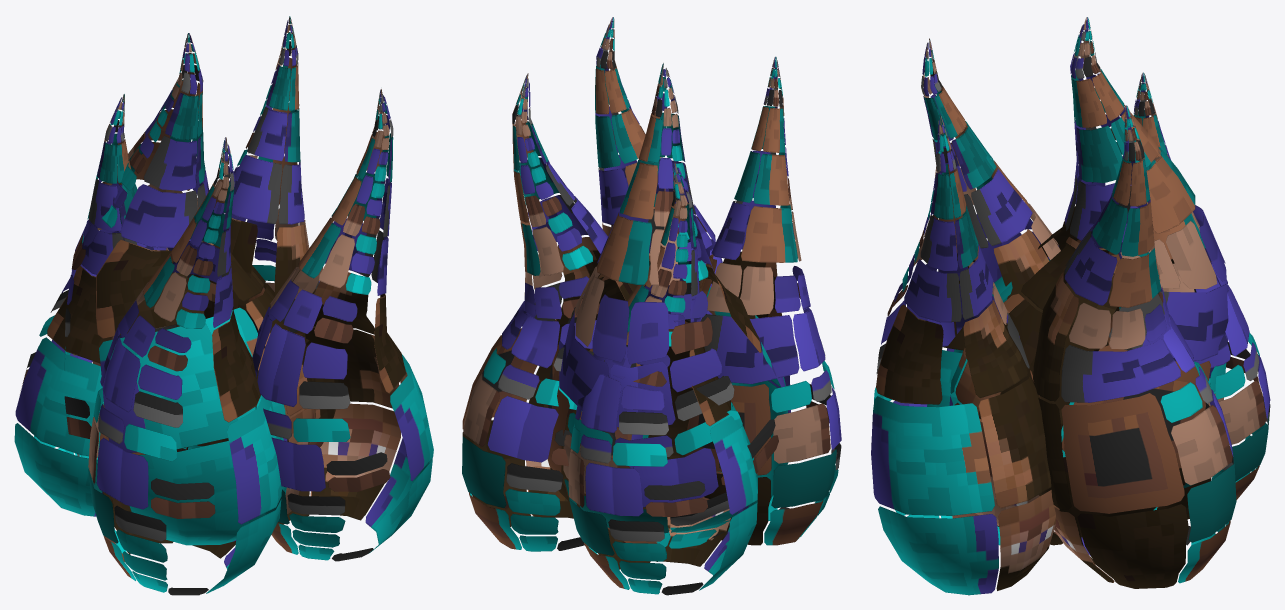
3 renders of one model, left to right at view 1: azimuth 30°, elevation 25°; view 2: azimuth 150°, elevation 25°; view 3: azimuth 270°, elevation 25°, orthographic. The views are drawn at different scales.
Parts seen in each view (by area): view 1: flame_NurbsPath.015; view 2: flame_NurbsPath.015; view 3: flame_NurbsPath.015.
Part boxes in pixels (left/top/right/bottom): flame_NurbsPath.015: left=14, top=16, right=433, bottom=595; flame_NurbsPath.015: left=462, top=17, right=841, bottom=595; flame_NurbsPath.015: left=871, top=17, right=1270, bottom=595.
Size of the model in its own units: 0.7498 by 1.19 by 0.8133.
